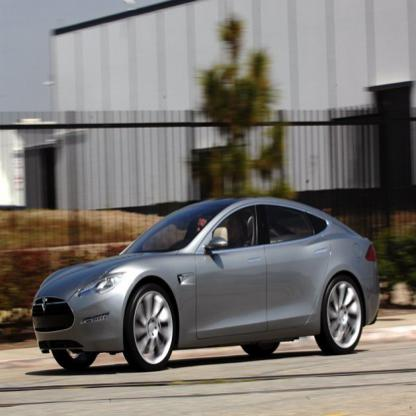Vehicle: (29, 196, 382, 374)
